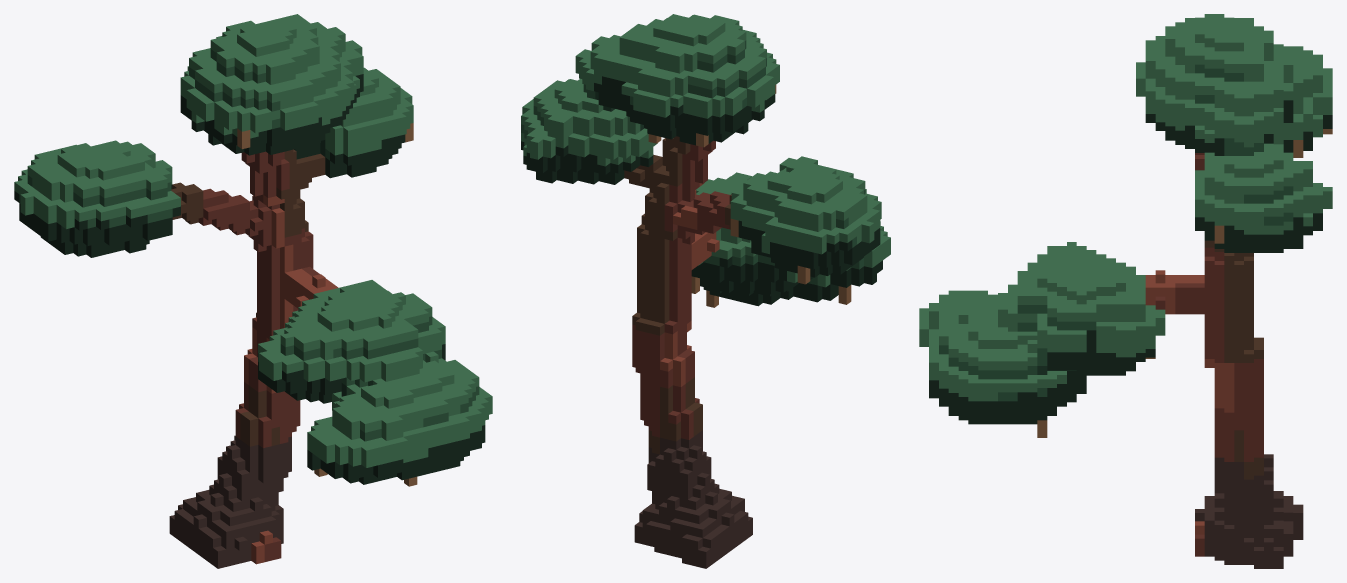
The model's file is Mountain_Pine_v5_Droop.fbx.
The picture shows the model from 3 angles, left to right: view 1: azimuth 30°, elevation 25°; view 2: azimuth 150°, elevation 25°; view 3: azimuth 270°, elevation 25°; orthographic projection. The views are drawn at different scales.
Visible parts, largest first — view 1: Mountain_Pine_v5_Droop; view 2: Mountain_Pine_v5_Droop; view 3: Mountain_Pine_v5_Droop.
Boxes of the visible parts, x1,y1,x2,y2 form: Mountain_Pine_v5_Droop: [14, 14, 492, 568]; Mountain_Pine_v5_Droop: [521, 14, 890, 568]; Mountain_Pine_v5_Droop: [919, 14, 1332, 568].
Bounding box in the file's own units: 2.93 × 3.93 × 2.8.
Materials: 1 (1 with a texture image).
